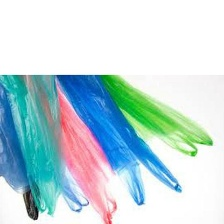plastic_bag: (54, 73, 189, 210), (36, 75, 126, 223), (98, 72, 221, 162), (15, 71, 88, 217), (1, 72, 63, 221)
